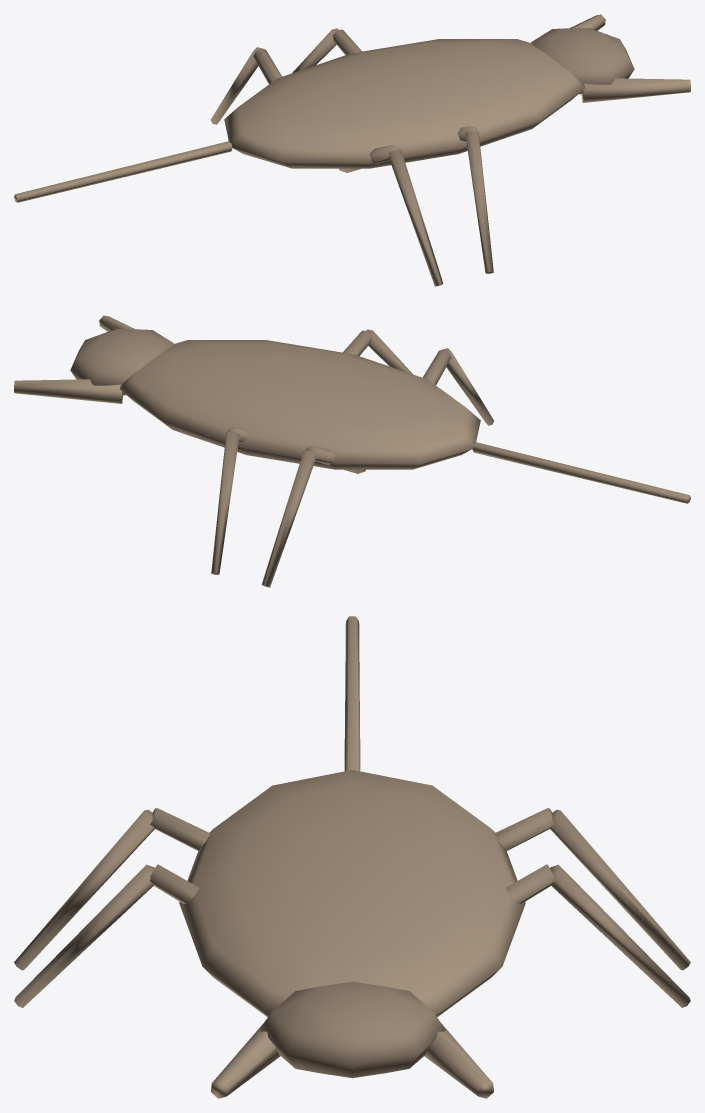
File: water-scorpion.glb
3 renders of one model, top to bottom at view 1: azimuth 30°, elevation 25°; view 2: azimuth 150°, elevation 25°; view 3: azimuth 270°, elevation 25°, orthographic. The views are drawn at different scales.
Parts seen in each view (by area): view 1: e; view 2: e; view 3: e.
Part boxes in pixels (x1,y1,x2,y2): e: (14,14,690,286); e: (14,315,690,587); e: (14,616,690,1098).
Size of the model in its own units: 0.6503 by 0.1095 by 0.4062.
